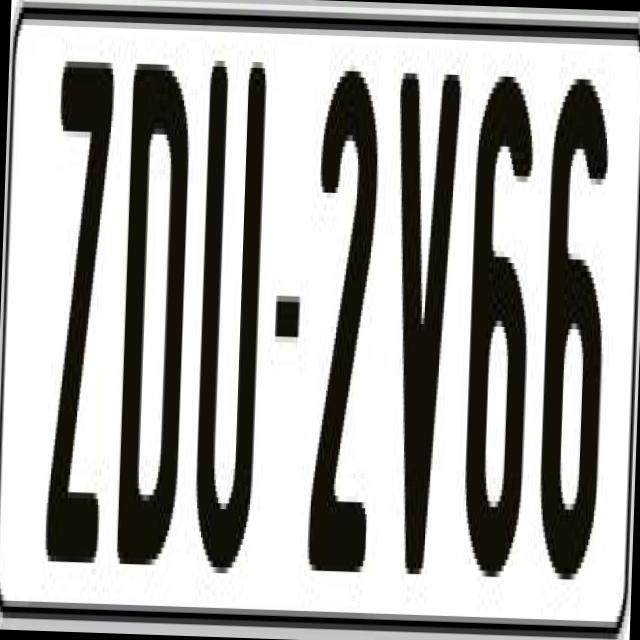2: (307, 58, 387, 560)
6: (532, 65, 608, 586), (462, 63, 538, 578)
D: (114, 58, 198, 566)
U: (188, 60, 270, 580)
V: (382, 61, 468, 574)
Z: (42, 49, 116, 557)
